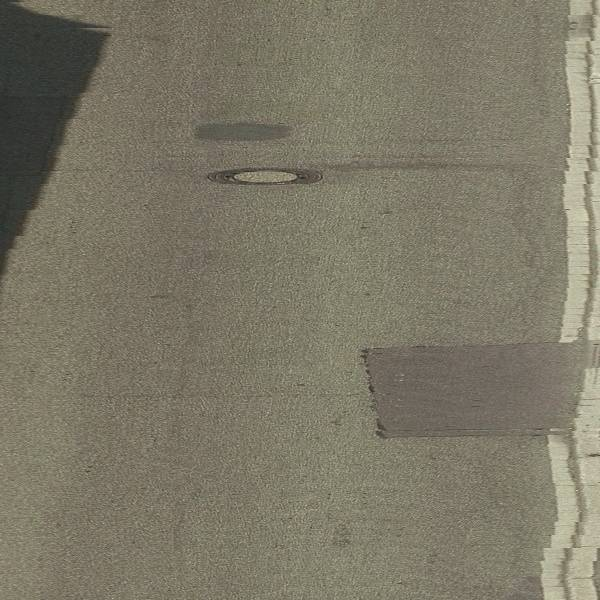road_damage: (348, 328, 540, 458), (334, 150, 551, 177), (180, 110, 299, 149)
